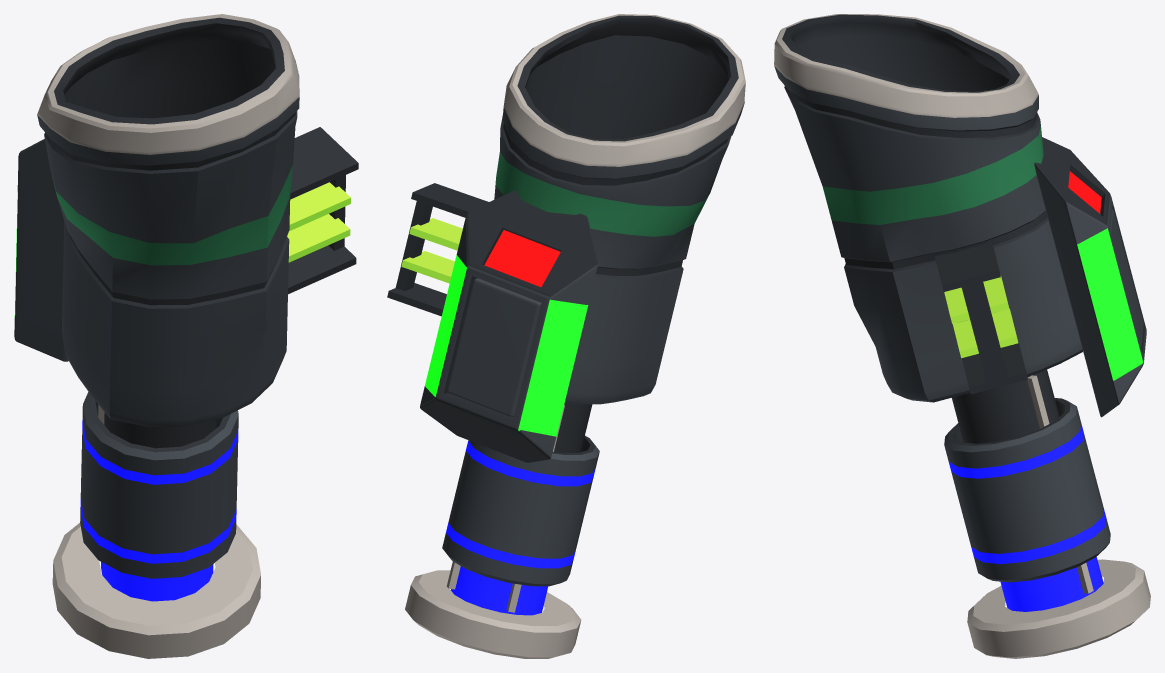
Rendered from arm-cannon.glb.
The picture shows the model from 3 angles, left to right: view 1: azimuth 30°, elevation 25°; view 2: azimuth 150°, elevation 25°; view 3: azimuth 270°, elevation 25°; orthographic projection. The views are drawn at different scales.
Parts seen in each view (by area): view 1: cannon_shell, cannon_slide; view 2: cannon_shell, cannon_slide, cannon_vent; view 3: cannon_shell, cannon_slide, cannon_vent.
Boxes of the visible parts, x1,y1,x2,y2 form: cannon_shell: (14,14,358,658); cannon_slide: (80,392,238,578); cannon_shell: (387,14,745,658); cannon_slide: (442,435,599,586); cannon_vent: (447,278,541,417); cannon_shell: (774,14,1150,658); cannon_slide: (944,398,1110,582); cannon_vent: (1110,209,1143,348).
Bounding box in the file's own units: 0.1868 × 0.3468 × 0.2038.
1 material, 1 textured.
